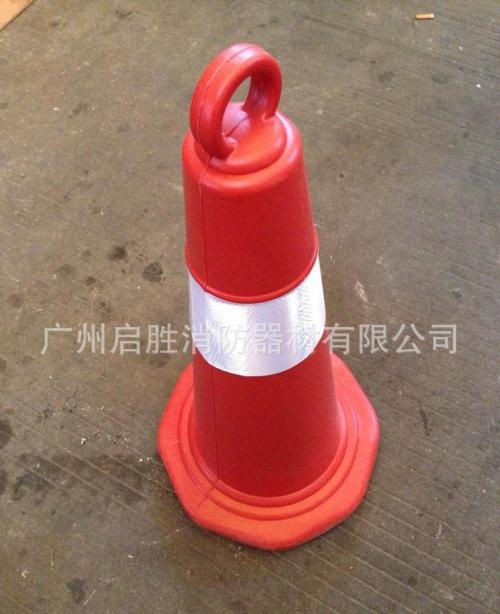sign: (134, 36, 405, 553)
